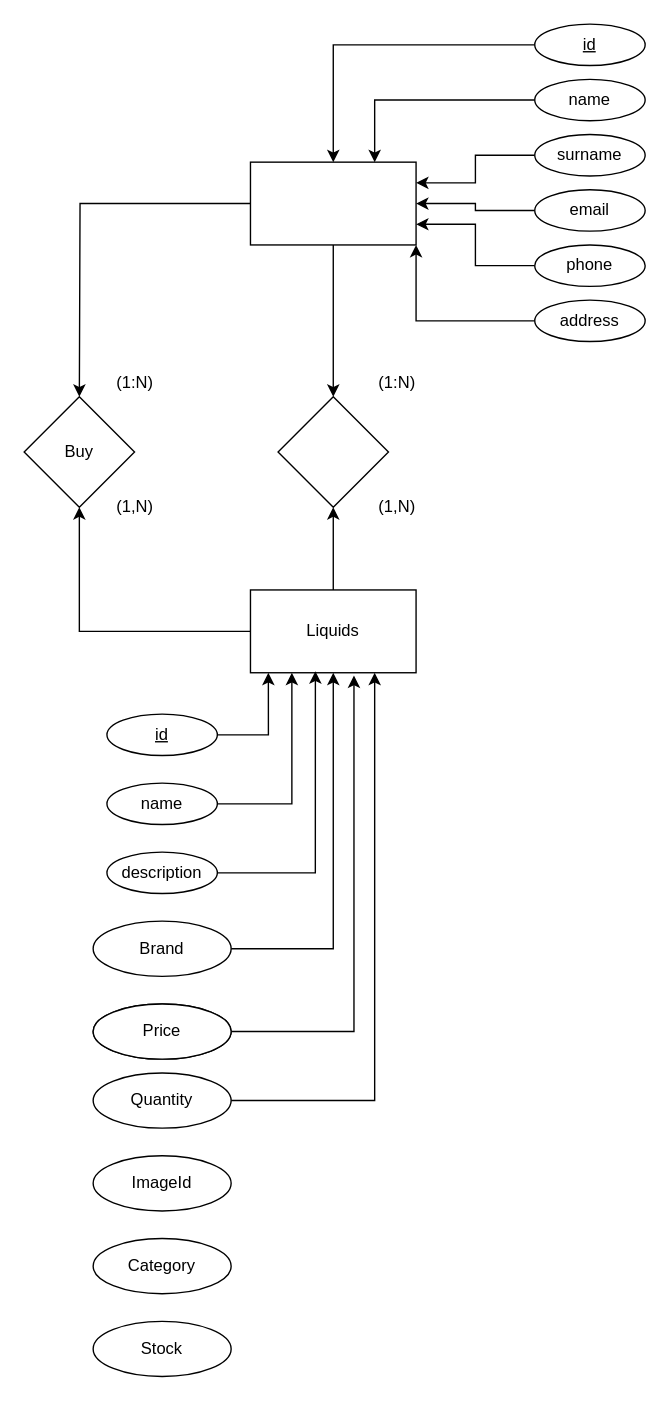
The diagram is 669 pixels wide and 1401 high, and some of its shapes have lost their labels. The shapes that lost their labels are listed below. From the top down, each one's centre as x and y in pixels, then its label:
At (x=332, y=203): "User".
At (x=332, y=451): "Find".
